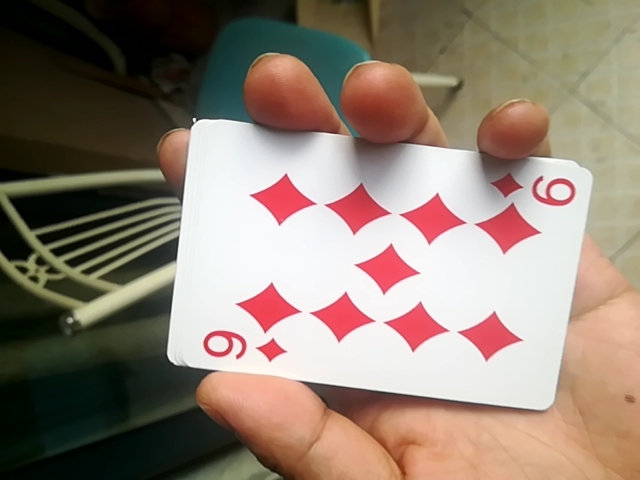fk 9: (155, 122, 606, 418)
